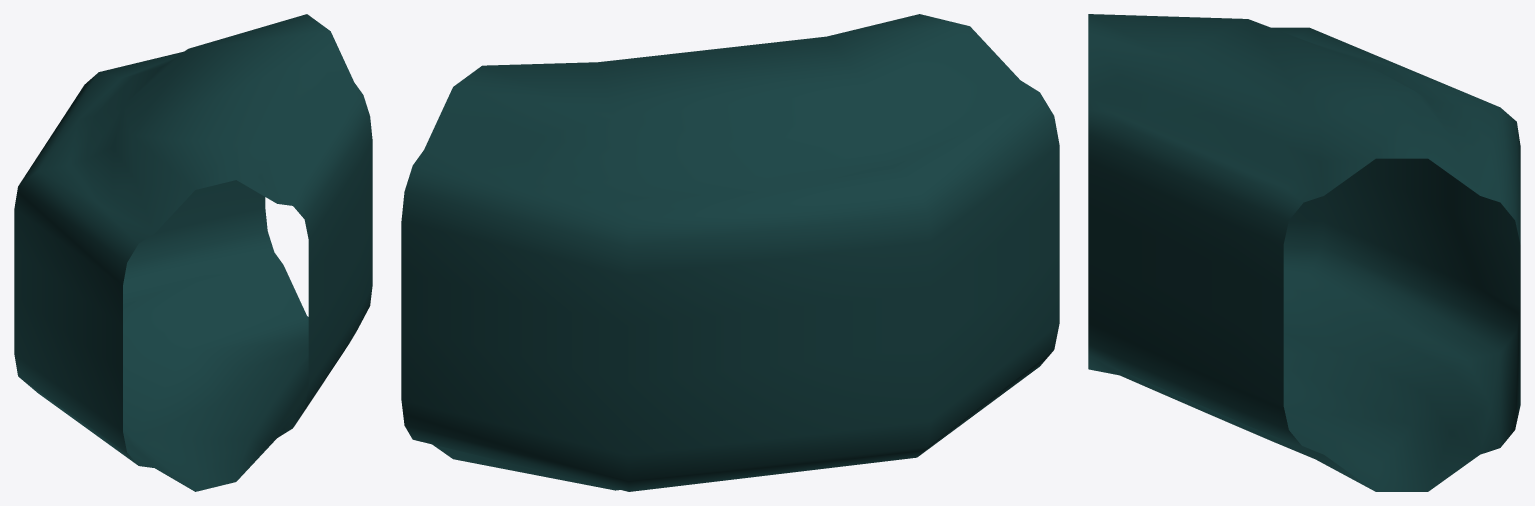
File: OutsideCorridor_01High.fbx
3 renders of one model, left to right at view 1: azimuth 30°, elevation 25°; view 2: azimuth 150°, elevation 25°; view 3: azimuth 270°, elevation 25°, orthographic. The views are drawn at different scales.
Visible parts, largest first — view 1: OutsideCorridor_01High; view 2: OutsideCorridor_01High; view 3: OutsideCorridor_01High.
Boxes of the visible parts, left/top/right/bottom form: OutsideCorridor_01High: left=14, top=14, right=372, bottom=491; OutsideCorridor_01High: left=401, top=14, right=1059, bottom=491; OutsideCorridor_01High: left=1088, top=14, right=1520, bottom=491.
Size of the model in its own units: 1110 by 1107 by 947.
